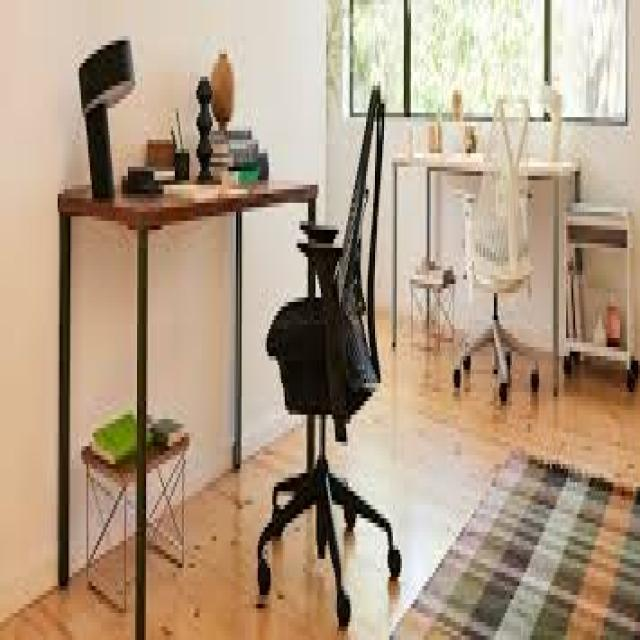chair: (204, 45, 422, 640), (430, 62, 563, 504)
